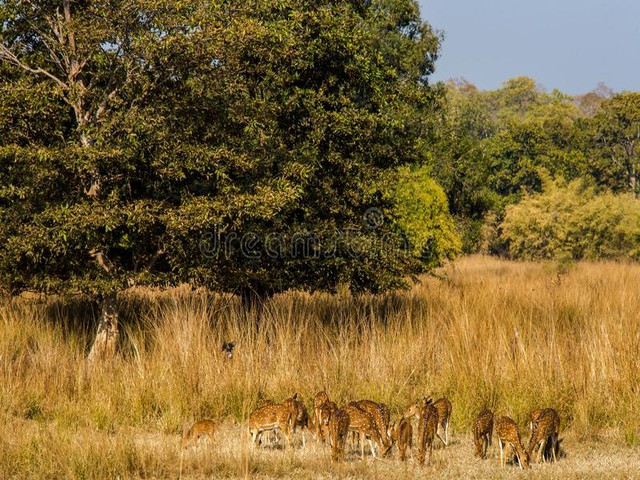deer: (356, 398, 393, 462), (249, 405, 299, 447), (531, 406, 566, 463), (414, 397, 441, 469), (498, 416, 531, 470), (470, 403, 492, 462), (310, 390, 334, 443), (330, 411, 352, 468), (184, 415, 220, 449)
